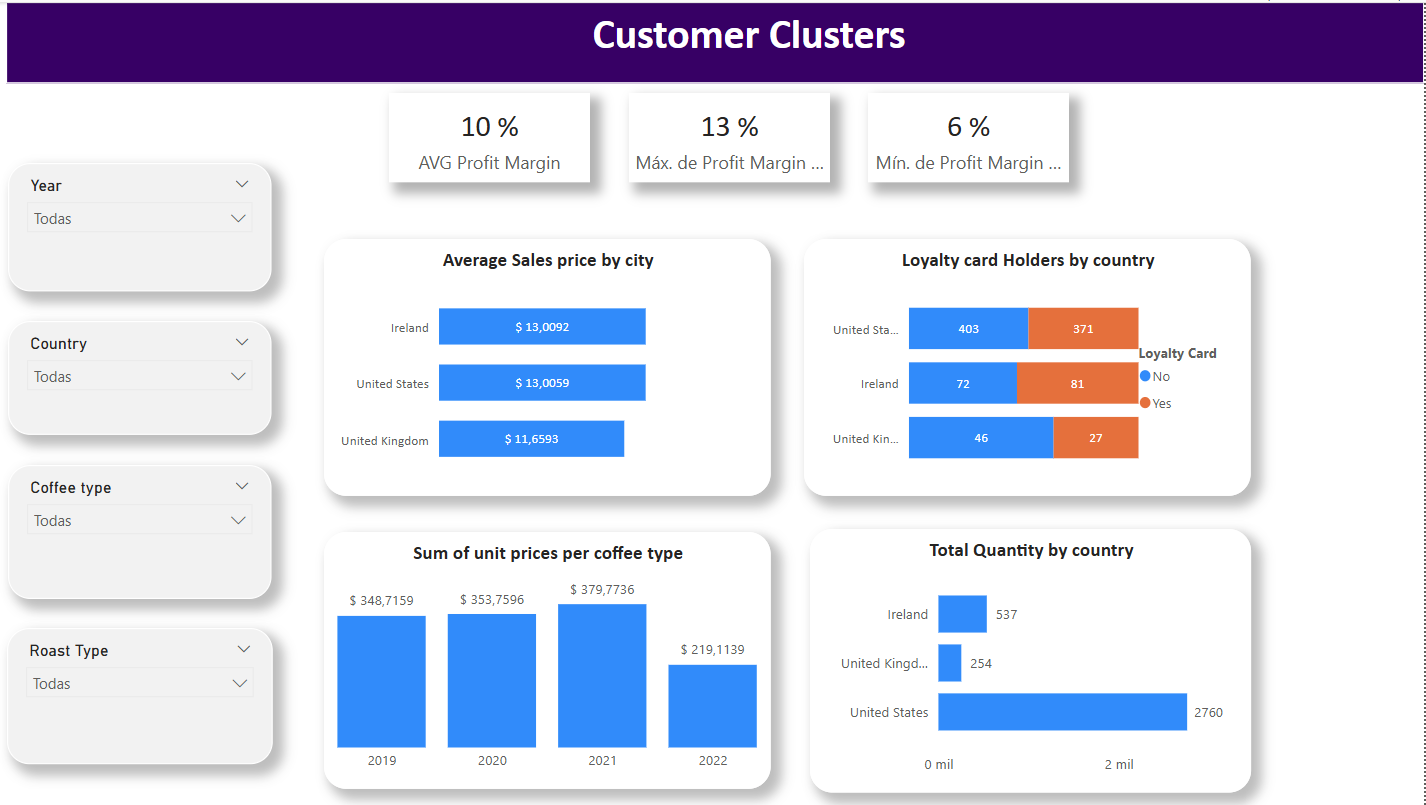

The dashboard page shown, as its layout file describes it:
{"tool":"powerbi","page":{"name":"Página 8","canvas":[1280,720],"ordinal":4},"visuals":[{"type":"shape","box":[10,0,1270,72.8],"z":0},{"type":"textbox","box":[256.7,0,836.3,73.2],"z":1000},{"type":"group","id":"g1","title":"Grupo 1","box":[353.1,81.3,180,80.1],"z":2000},{"type":"group","id":"g2","title":"Grupo 1","box":[568,81.3,180,80.1],"z":3000},{"type":"group","id":"g3","title":"Grupo 1","box":[781.7,81.3,180,80.1],"z":4000},{"type":"clusteredColumnChart","title":"Sum of unit prices per coffee type","fields":{"Category":["Calendario.Year"],"Y":["Sum(Combinar2.Profit)"]},"box":[295,475.1,399.6,230],"z":5000},{"type":"hundredPercentStackedBarChart","title":"Loyalty card Holders by country","fields":{"Category":["Combinar2.Country"],"Series":["Combinar2.Loyalty Card"],"Y":["CountNonNull(Combinar2.Loyalty Card)"]},"box":[724.8,212.6,399.6,230],"z":6000},{"type":"clusteredBarChart","title":"Average Sales price by city","fields":{"Y":["Avg(Combinar2.Unit Price)"],"Category":["Combinar2.Country"]},"box":[295,212.6,399.6,230],"z":7000},{"type":"clusteredBarChart","title":"Total Quantity by country","fields":{"Category":["Data_customers 33.Country"],"Y":["Sum(Data_orders.Quantity)"]},"box":[729.4,471.6,394.9,235.8],"z":8000},{"type":"card","fields":{"Values":["Avg(Data_products 33.Profit Margin (Relative profit per product))"]},"box":[353.1,81.3,180,80],"z":9000,"group":"g1"},{"type":"card","fields":{"Values":["Max(Combinar2.Profit Margin (relative profit per product))"]},"box":[568,81.3,180,80],"z":9000,"group":"g2"},{"type":"card","fields":{"Values":["Min(Combinar2.Profit Margin (relative profit per product))"]},"box":[781.7,81.3,180,80],"z":9000,"group":"g3"},{"type":"slicer","fields":{"Values":["Calendario.Year"]},"box":[11.9,144.2,235.8,115],"z":9000},{"type":"slicer","fields":{"Values":["Combinar2.Country"]},"box":[11.9,285.8,235.8,102.2],"z":10000},{"type":"slicer","fields":{"Values":["Data_products 33.Coffee type"]},"box":[11.9,414.7,235.8,119.6],"z":11000},{"type":"slicer","fields":{"Values":["Combinar2.Roast Type"]},"box":[10.7,561,238.1,122],"z":12000}]}

Visuals, with their boxes in screenshot pixels (x1, y1, x2, y2), scaled from the page's 1280x720 canvas onto the 1426x805 screenshot:
shape: 11:0:1425:81
textbox: 286:0:1218:82
"Grupo 1" group: 393:91:594:180
"Grupo 1" group: 633:91:833:180
"Grupo 1" group: 871:91:1071:180
"Sum of unit prices per coffee type" clusteredColumnChart: 329:531:774:788
"Loyalty card Holders by country" hundredPercentStackedBarChart: 807:238:1253:495
"Average Sales price by city" clusteredBarChart: 329:238:774:495
"Total Quantity by country" clusteredBarChart: 813:527:1253:791
card - Avg(Data_products 33.Profit Margin (Relative profit per product)): 393:91:594:180
card - Max(Combinar2.Profit Margin (relative profit per product)): 633:91:833:180
card - Min(Combinar2.Profit Margin (relative profit per product)): 871:91:1071:180
slicer - Calendario.Year: 13:161:276:290
slicer - Combinar2.Country: 13:320:276:434
slicer - Data_products 33.Coffee type: 13:464:276:597
slicer - Combinar2.Roast Type: 12:627:277:764
